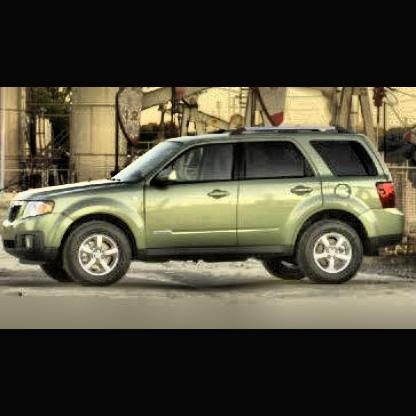Mazda Tribute SUV 2011: (3, 126, 407, 288)
